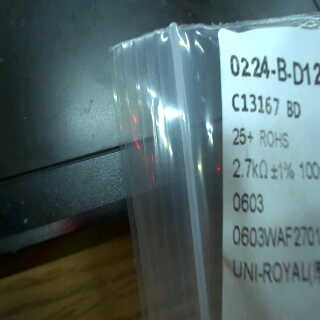2.7kR: (230, 154, 270, 186)
